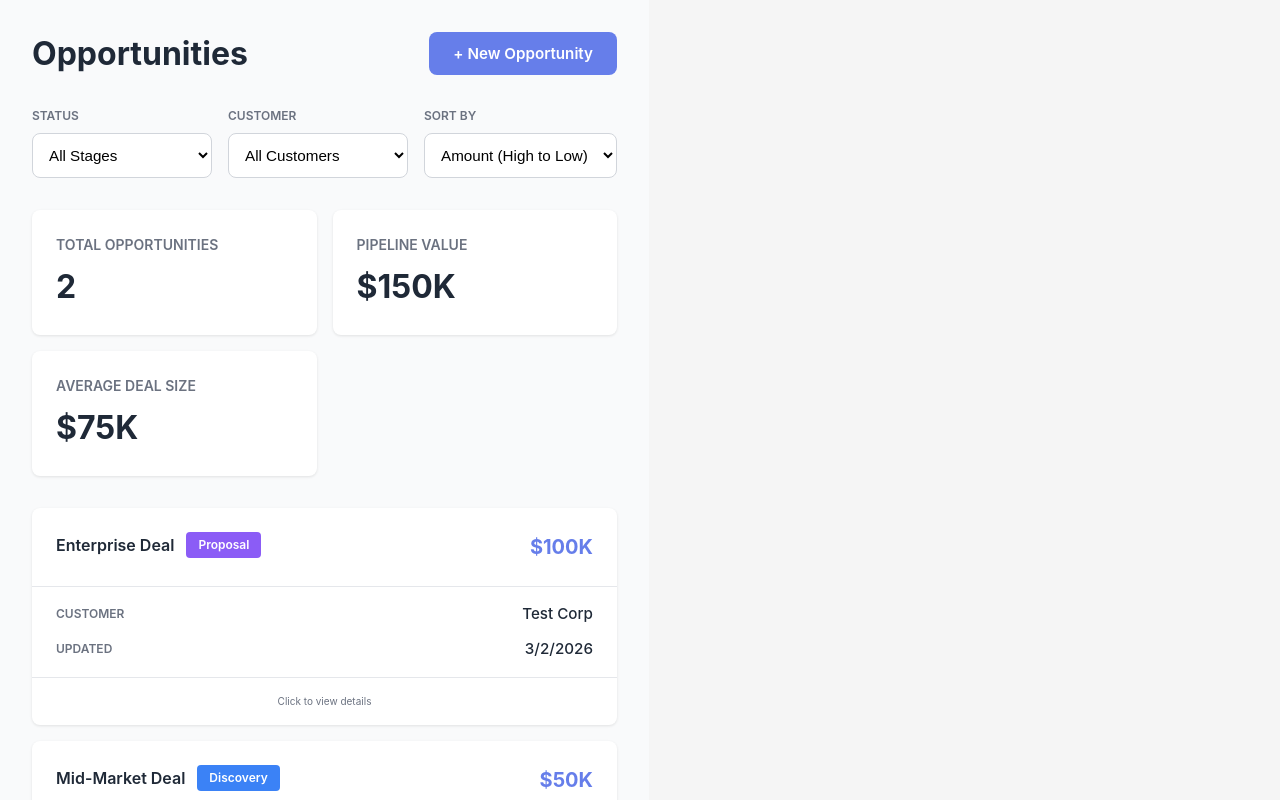
Test: OpportunitiesPage › should filter opportunities by stage
This screenshot has width=1280, height=800.
Select "Discovery" in the dropdown labelled "Status": (122, 156) [32,133,212,178]
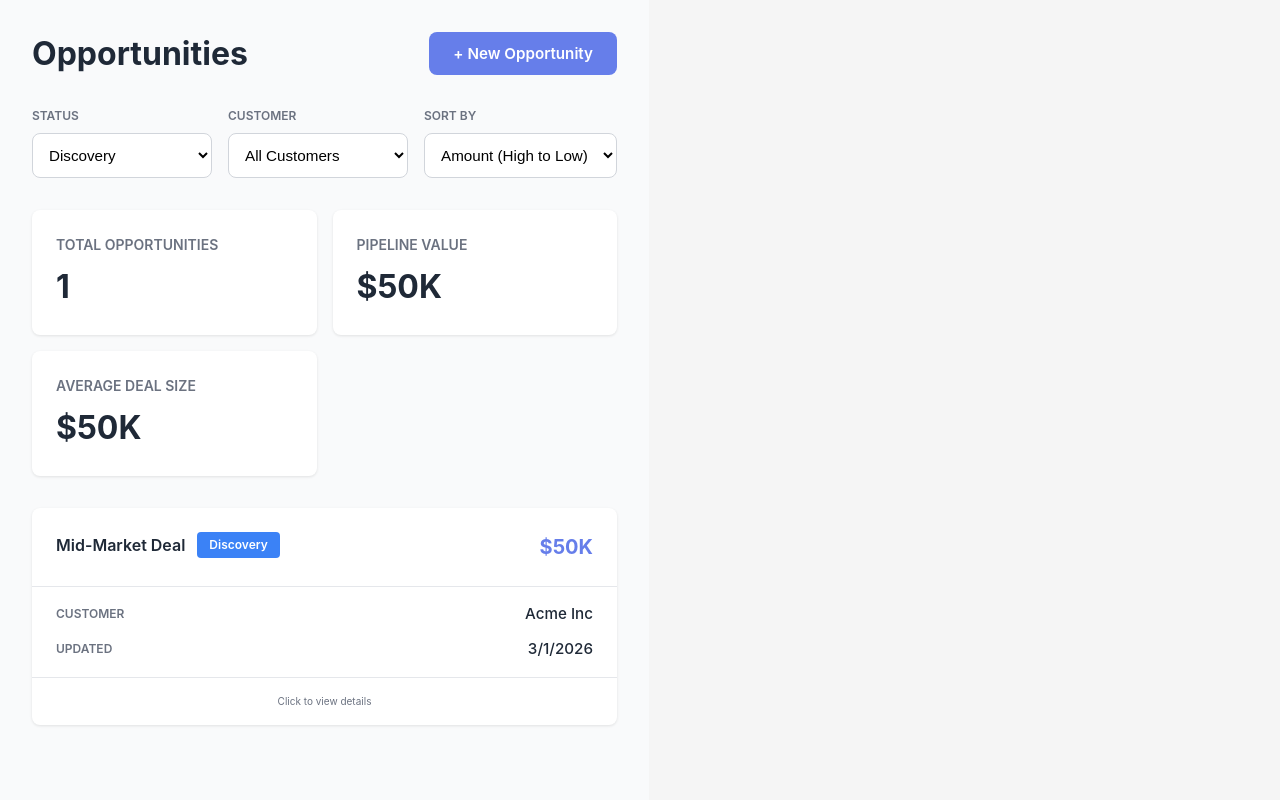
expect the heading "Mid-Market Deal" is shown: met, box [56,533,185,557]
expect the heading "Enterprise Deal" is gone: met
